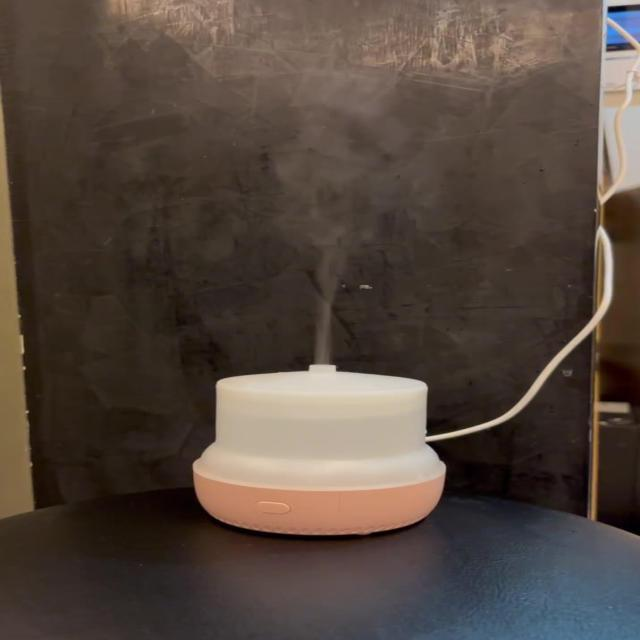fire: (279, 72, 426, 366)
